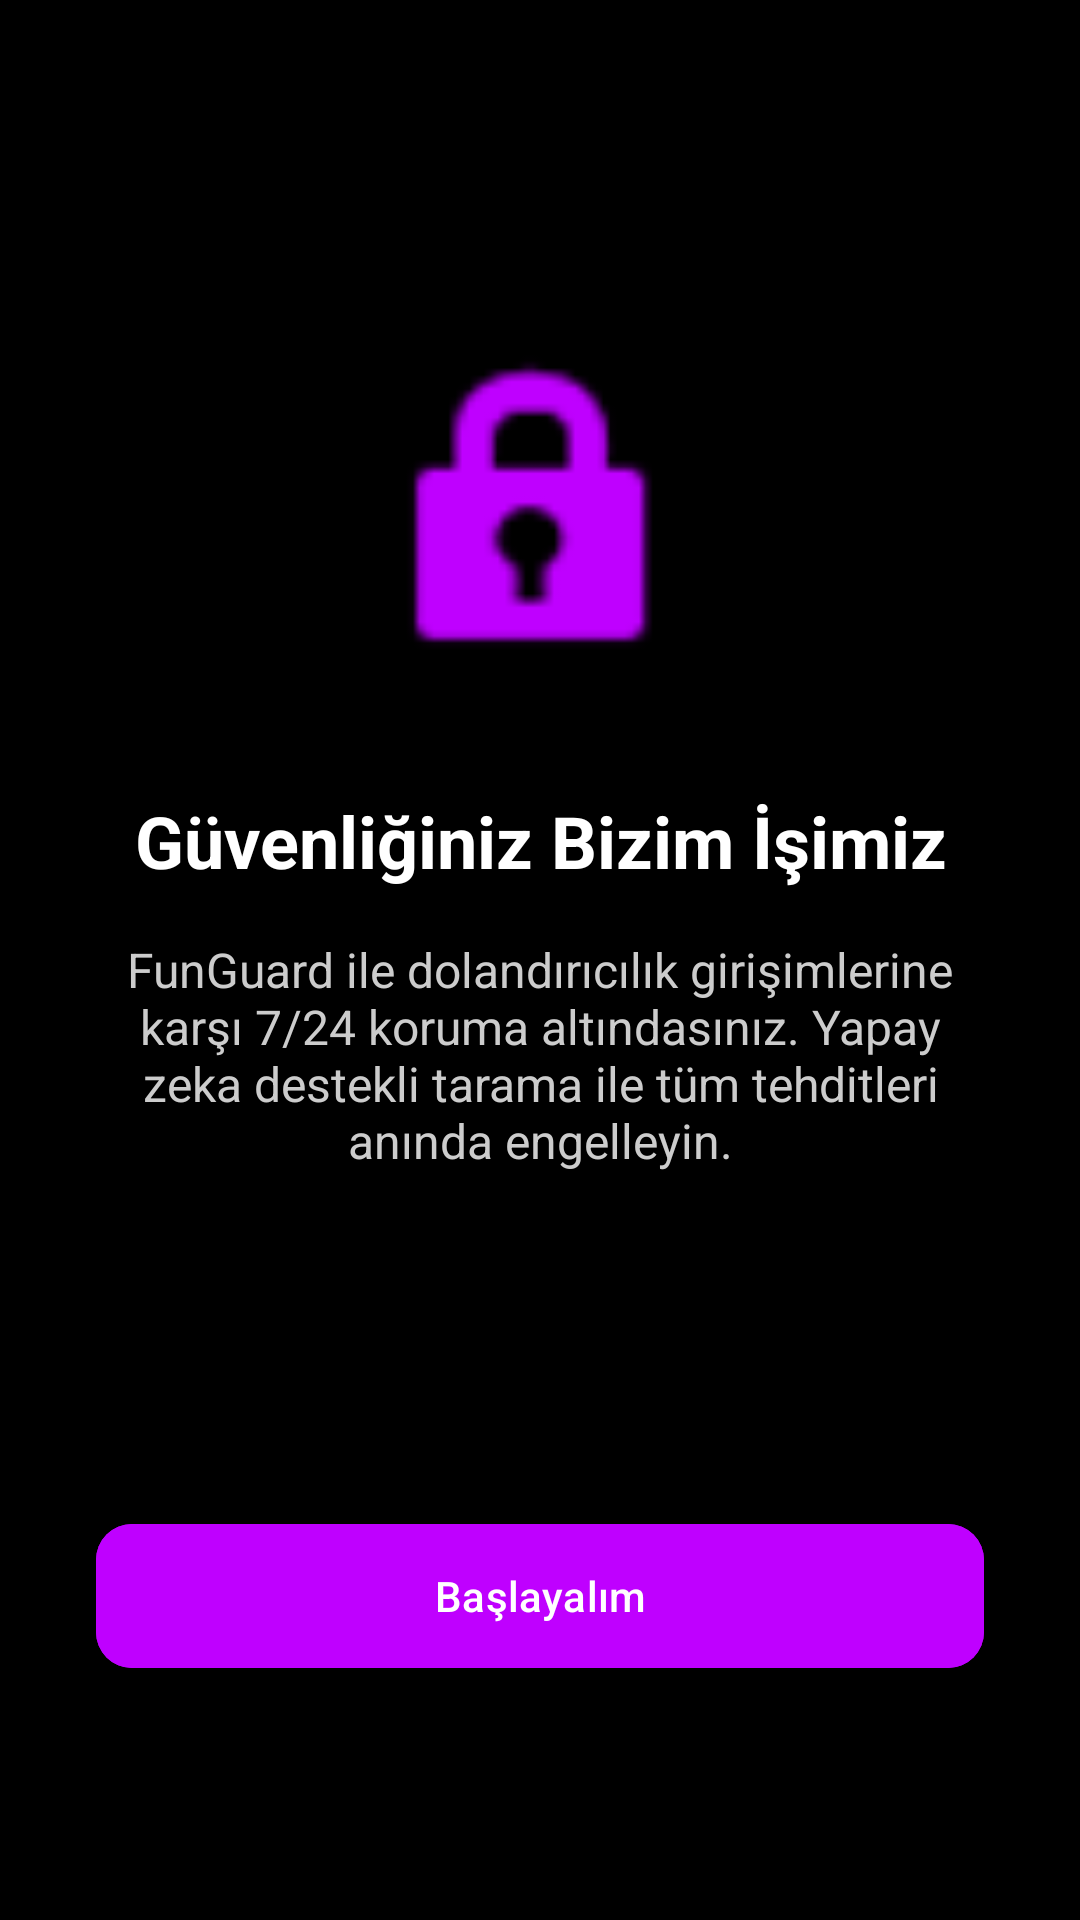

Locate icon controls on the screen. Image size 1080 x 1920, boxes as bbox=(x1, y1, x2, y2).
lock idle: bbox=(413, 365, 650, 643)
